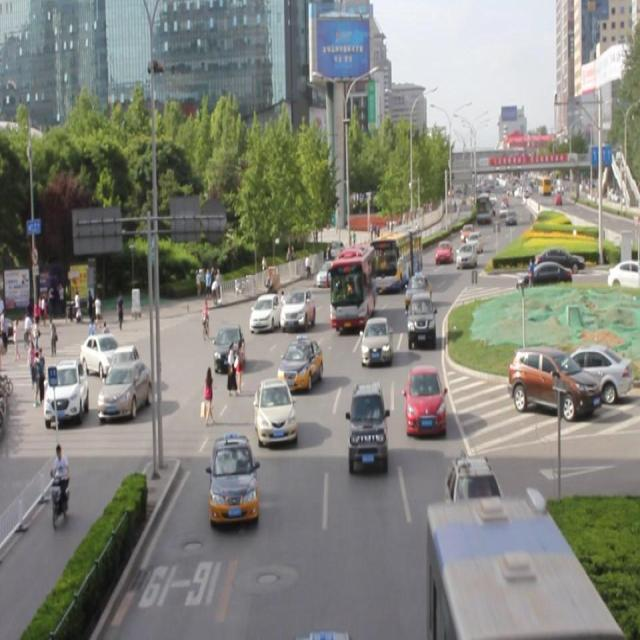car: (211, 435, 256, 526), (446, 452, 496, 526), (348, 380, 384, 470), (253, 376, 295, 446), (404, 366, 446, 436), (277, 337, 322, 393), (278, 280, 313, 327), (407, 292, 435, 348), (360, 316, 390, 365), (214, 320, 243, 370), (248, 288, 281, 326), (404, 272, 432, 312)
van: (428, 499, 608, 640), (330, 245, 373, 330), (371, 229, 422, 288)
